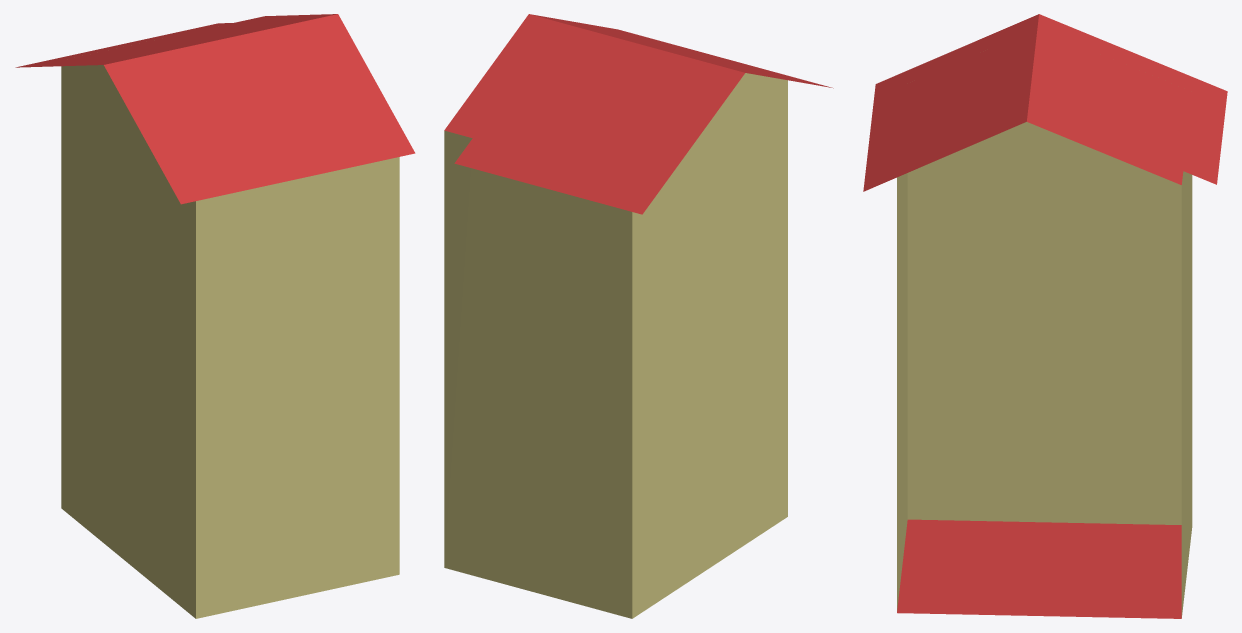
3 views of the same model, side by side, from view 1: azimuth 30°, elevation 25°; view 2: azimuth 150°, elevation 25°; view 3: azimuth 270°, elevation 25° (orthographic). The views are drawn at different scales.
Bounding box in the file's own units: 4.02 × 5.41 × 8.1.
